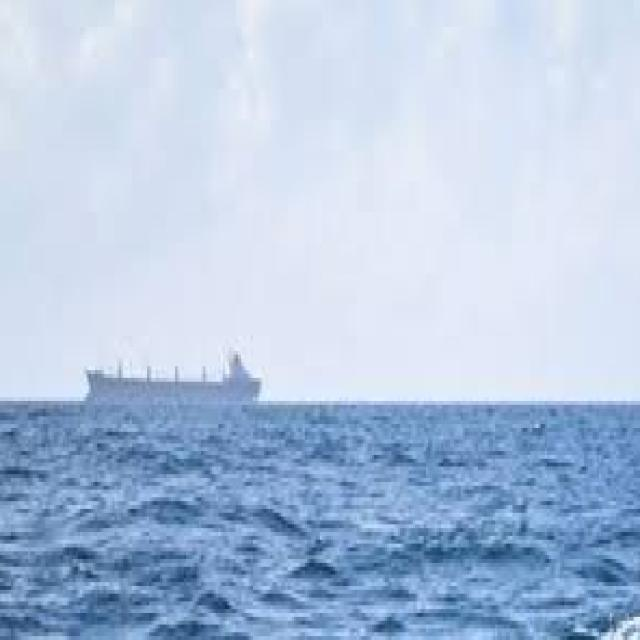cargoship: (82, 342, 263, 403)
